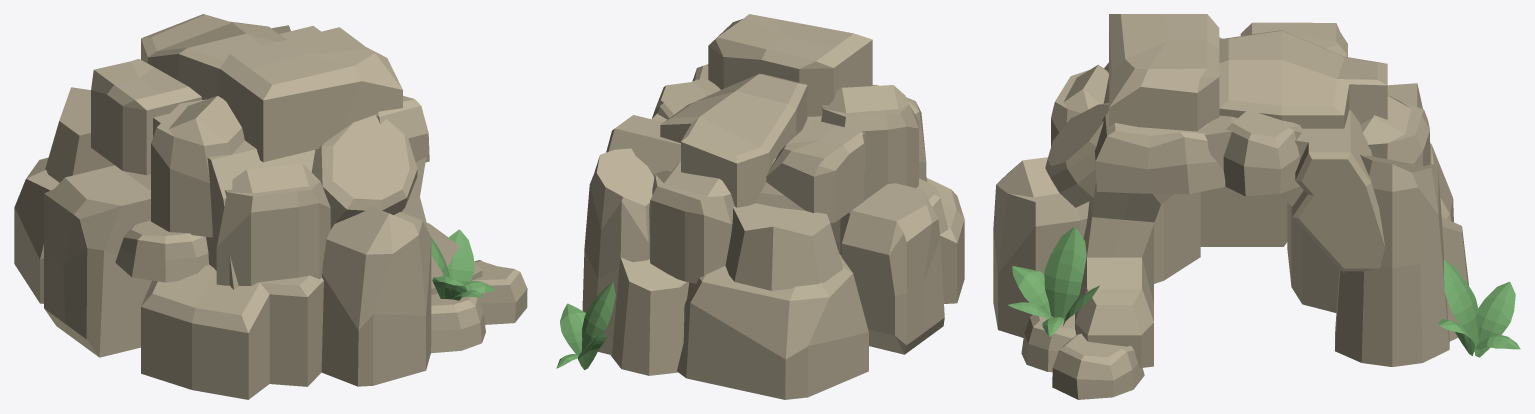
File: cave.glb
3 views of the same model, side by side, from view 1: azimuth 30°, elevation 25°; view 2: azimuth 150°, elevation 25°; view 3: azimuth 270°, elevation 25° (orthographic). The views are drawn at different scales.
Parts seen in each view (by area): view 1: Cube.073, rock1.004, Cube.048, Cube.074, rock4.005, rock4.002, Cube.080, Cube.078, Cube.070, Cube.069, Cube.076, Cube.077 (+6 smaller); view 2: rock1.002, Cube.074, Cube.070, Cube.048, Cube.013, Cube.077, rock4.004, Cube.079, Cube.078, rock4.002, Cube.069, Cube.073 (+6 smaller); view 3: Cube.069, Cube.013, Cube.070, Cube.048, rock1.004, Cube.081, Cube.075, Cube.074, Cube.071, rock1.002, Cube.080, Cube.073 (+12 smaller).
Part boxes in pixels (x1,y1,x2,y2): Cube.073: (141, 264, 323, 399); rock1.004: (321, 206, 431, 386); Cube.048: (219, 27, 402, 162); Cube.074: (44, 165, 151, 357); rock4.005: (216, 163, 330, 285); rock4.002: (151, 96, 244, 237); Cube.080: (311, 114, 417, 227); Cube.078: (91, 59, 201, 175); Cube.070: (141, 14, 286, 99); Cube.069: (153, 26, 482, 294); Cube.076: (115, 220, 208, 282); Cube.077: (45, 87, 150, 189); rock1.002: (677, 253, 868, 399); Cube.074: (841, 183, 944, 354); Cube.070: (660, 74, 807, 207); Cube.048: (708, 14, 872, 116); Cube.013: (582, 148, 654, 354); Cube.077: (725, 203, 843, 290); rock4.004: (649, 161, 734, 283); Cube.079: (610, 257, 689, 375); Cube.078: (766, 119, 863, 223); rock4.002: (821, 85, 918, 200); Cube.069: (606, 78, 927, 250); Cube.073: (838, 178, 964, 303); Cube.069: (1075, 62, 1385, 367); Cube.013: (1335, 155, 1449, 366); Cube.070: (1219, 30, 1387, 128); Cube.048: (1109, 14, 1219, 131); rock1.004: (993, 157, 1089, 337); Cube.081: (1094, 113, 1225, 194); Cube.075: (1223, 110, 1302, 196); Cube.074: (1200, 186, 1287, 246); Cube.071: (1052, 333, 1144, 399); rock1.002: (1287, 144, 1453, 312); Cube.080: (1045, 103, 1109, 207); Cube.073: (1154, 192, 1200, 283).
Size of the model in its own units: 13.75 by 9.62 by 16.31.
